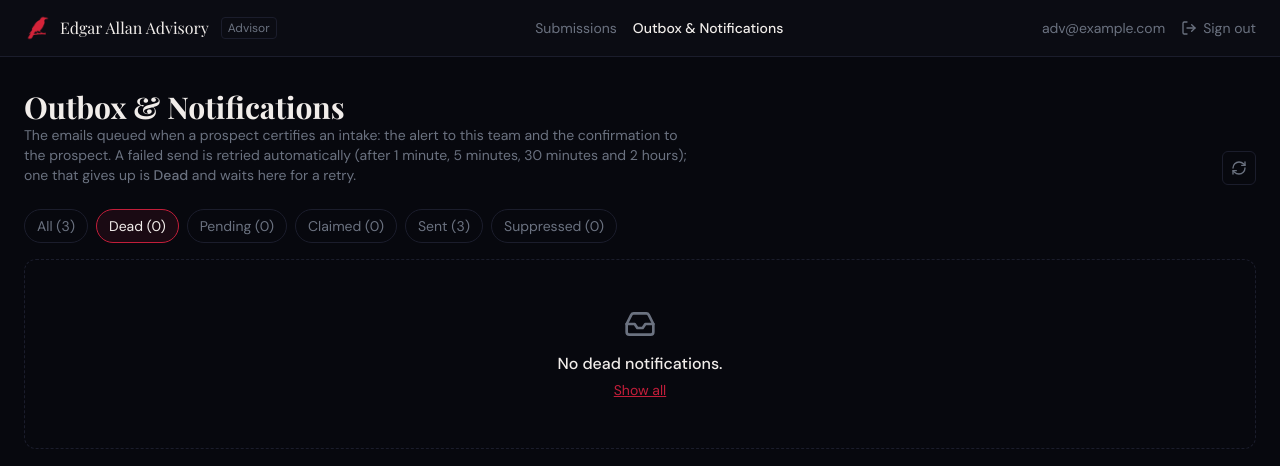
Test: AdvisorOutboxPage › says so, and offers everything, when a status has no events
Check: the text "No dead notifications." is shown, box [558, 353, 723, 374]
Click the button "Show all" at [640, 390], box [614, 380, 666, 400]
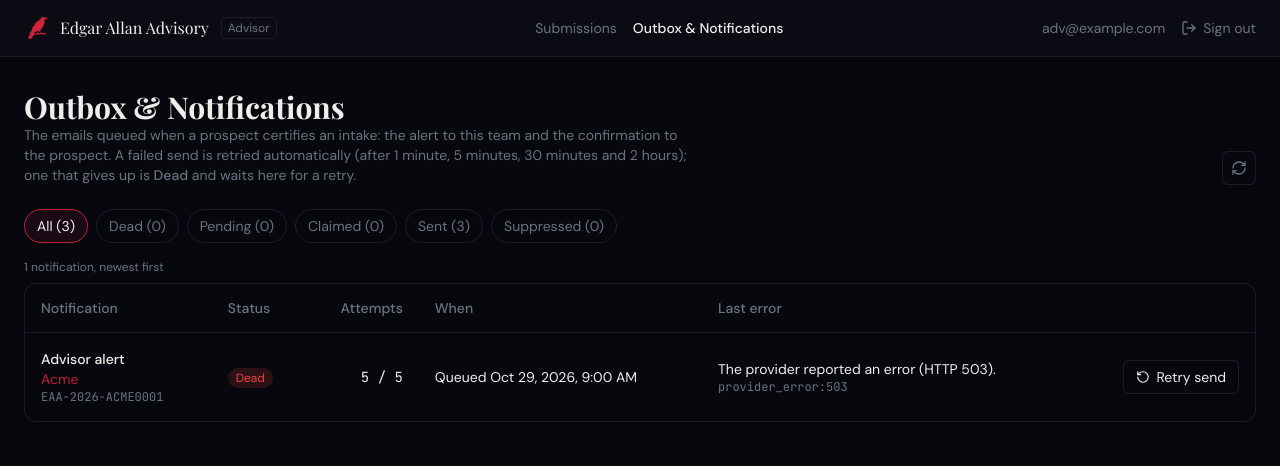
Check: the link "Acme" is shown, box [41, 370, 78, 388]
